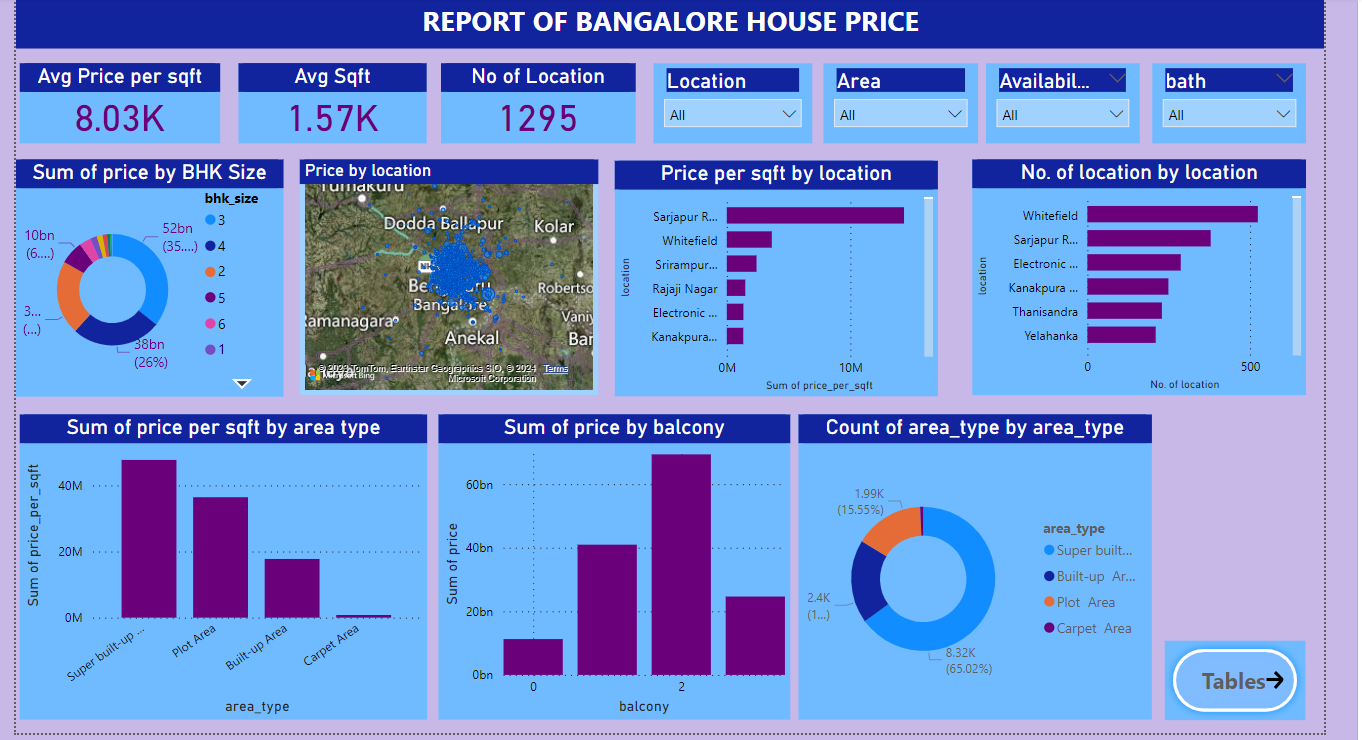

The page's visual inventory and layout, read from the dashboard file:
{"tool":"powerbi","page":{"name":"Visualization","canvas":[1280,720],"ordinal":0},"visuals":[{"type":"clusteredBarChart","fields":{"Category":["final_cleaned_bengaluru_house_prices.location"],"Y":["CountNonNull(final_cleaned_bengaluru_house_prices.location)"]},"box":[934.7,158.7,326.7,230.7],"z":0},{"type":"barChart","title":"Price per sqft by location","fields":{"Category":["final_cleaned_bengaluru_house_prices.location"],"Y":["Sum(bengaluru_house_prices.price_per_sqft)"]},"box":[585.3,160,316,230.7],"z":1000},{"type":"columnChart","fields":{"Category":["final_cleaned_bengaluru_house_prices.balcony"],"Y":["Sum(final_cleaned_bengaluru_house_prices.price)"]},"box":[413.3,408,344,298.7],"z":2000},{"type":"donutChart","fields":{"Y":["CountNonNull(final_cleaned_bengaluru_house_prices.area_type)"],"Category":["final_cleaned_bengaluru_house_prices.area_type"]},"box":[765.3,408,345.3,298.7],"z":3000},{"type":"columnChart","title":"Sum of price per sqft by area type","fields":{"Y":["Sum(final_cleaned_bengaluru_house_prices.price_per_sqft)"],"Category":["final_cleaned_bengaluru_house_prices.area_type"]},"box":[4,408,398.7,298.7],"z":4000},{"type":"donutChart","title":"Sum of price by BHK Size","fields":{"Y":["Sum(final_cleaned_bengaluru_house_prices.price)"],"Category":["final_cleaned_bengaluru_house_prices.bhk_size"]},"box":[0,158.7,261.3,232],"z":5000},{"type":"textbox","box":[0,0,1280.6,50],"z":6000},{"type":"card","title":"Avg Price per sqft","fields":{"Values":["Avg(final_cleaned_bengaluru_house_prices.price_per_sqft)"]},"box":[4,65,196,78],"z":7000},{"type":"card","title":"Avg Sqft","fields":{"Values":["Avg(final_cleaned_bengaluru_house_prices.total_sqft)"]},"box":[218,65,184,78],"z":8000},{"type":"card","title":"No of Location","fields":{"Values":["Count(final_cleaned_bengaluru_house_prices.location)"]},"box":[416,65,190,78],"z":9000},{"type":"slicer","fields":{"Values":["final_cleaned_bengaluru_house_prices.location"]},"box":[623,65,155,78],"z":10000},{"type":"slicer","fields":{"Values":["final_cleaned_bengaluru_house_prices.area_type"]},"box":[790,65,151,78],"z":11000},{"type":"slicer","fields":{"Values":["bengaluru_house_prices.availability"]},"box":[949,65,150,78],"z":12000},{"type":"actionButton","title":"Table Chart","box":[1124,629.3,137.3,77.3],"z":13000},{"type":"map","fields":{"Category":["final_cleaned_bengaluru_house_prices.location"],"Size":["Sum(final_cleaned_bengaluru_house_prices.price)"]},"box":[277.3,158.7,292,230.7],"z":14000},{"type":"slicer","fields":{"Values":["bengaluru_house_prices.bath"]},"box":[1110.7,65.3,150.7,78.7],"z":15000}]}

Visuals, with their boxes on the page's 1280x720 design canvas (x1, y1, x2, y2). These are canvas units, not pixel positions in the 1362x740 screenshot, which may show the page scaled, cropped or inside an application window:
clusteredBarChart - final_cleaned_bengaluru_house_prices.location x CountNonNull(final_cleaned_bengaluru_house_prices.location): {"left": 935, "top": 159, "right": 1261, "bottom": 389}
"Price per sqft by location" barChart: {"left": 585, "top": 160, "right": 901, "bottom": 391}
columnChart - final_cleaned_bengaluru_house_prices.balcony x Sum(final_cleaned_bengaluru_house_prices.price): {"left": 413, "top": 408, "right": 757, "bottom": 707}
donutChart - CountNonNull(final_cleaned_bengaluru_house_prices.area_type) x final_cleaned_bengaluru_house_prices.area_type: {"left": 765, "top": 408, "right": 1111, "bottom": 707}
"Sum of price per sqft by area type" columnChart: {"left": 4, "top": 408, "right": 403, "bottom": 707}
"Sum of price by BHK Size" donutChart: {"left": 0, "top": 159, "right": 261, "bottom": 391}
textbox: {"left": 0, "top": 0, "right": 1281, "bottom": 50}
"Avg Price per sqft" card: {"left": 4, "top": 65, "right": 200, "bottom": 143}
"Avg Sqft" card: {"left": 218, "top": 65, "right": 402, "bottom": 143}
"No of Location" card: {"left": 416, "top": 65, "right": 606, "bottom": 143}
slicer - final_cleaned_bengaluru_house_prices.location: {"left": 623, "top": 65, "right": 778, "bottom": 143}
slicer - final_cleaned_bengaluru_house_prices.area_type: {"left": 790, "top": 65, "right": 941, "bottom": 143}
slicer - bengaluru_house_prices.availability: {"left": 949, "top": 65, "right": 1099, "bottom": 143}
"Table Chart" actionButton: {"left": 1124, "top": 629, "right": 1261, "bottom": 707}
map - final_cleaned_bengaluru_house_prices.location x Sum(final_cleaned_bengaluru_house_prices.price): {"left": 277, "top": 159, "right": 569, "bottom": 389}
slicer - bengaluru_house_prices.bath: {"left": 1111, "top": 65, "right": 1261, "bottom": 144}
